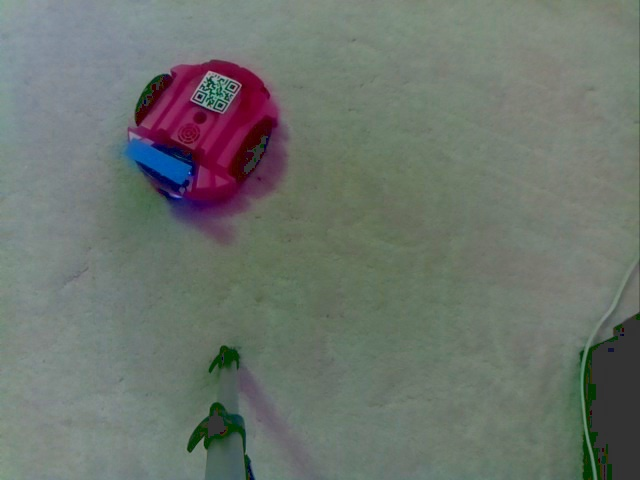board: (116, 135, 194, 185)
chassis: (123, 57, 284, 205)
